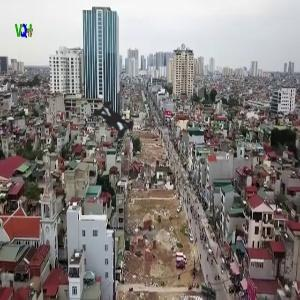drone: (47, 51, 178, 182)
